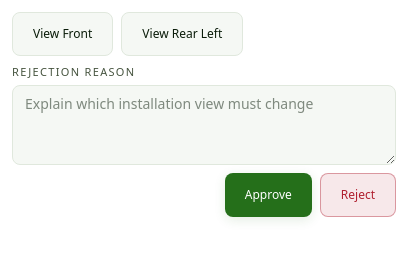
Scenario: InstallationReviewActions evidence viewer › reports a visible failure when the evidence service is unreachable
The image size is (413, 263).
Click the button "View front". click: (63, 34)
box: x1=12 y1=12 x2=113 y2=56
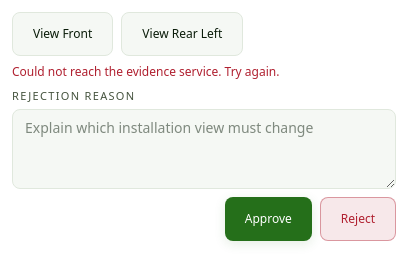
Expected: the message reads "Could not reach the evidence service. Try again.", x1=12 y1=63 x2=279 y2=80
